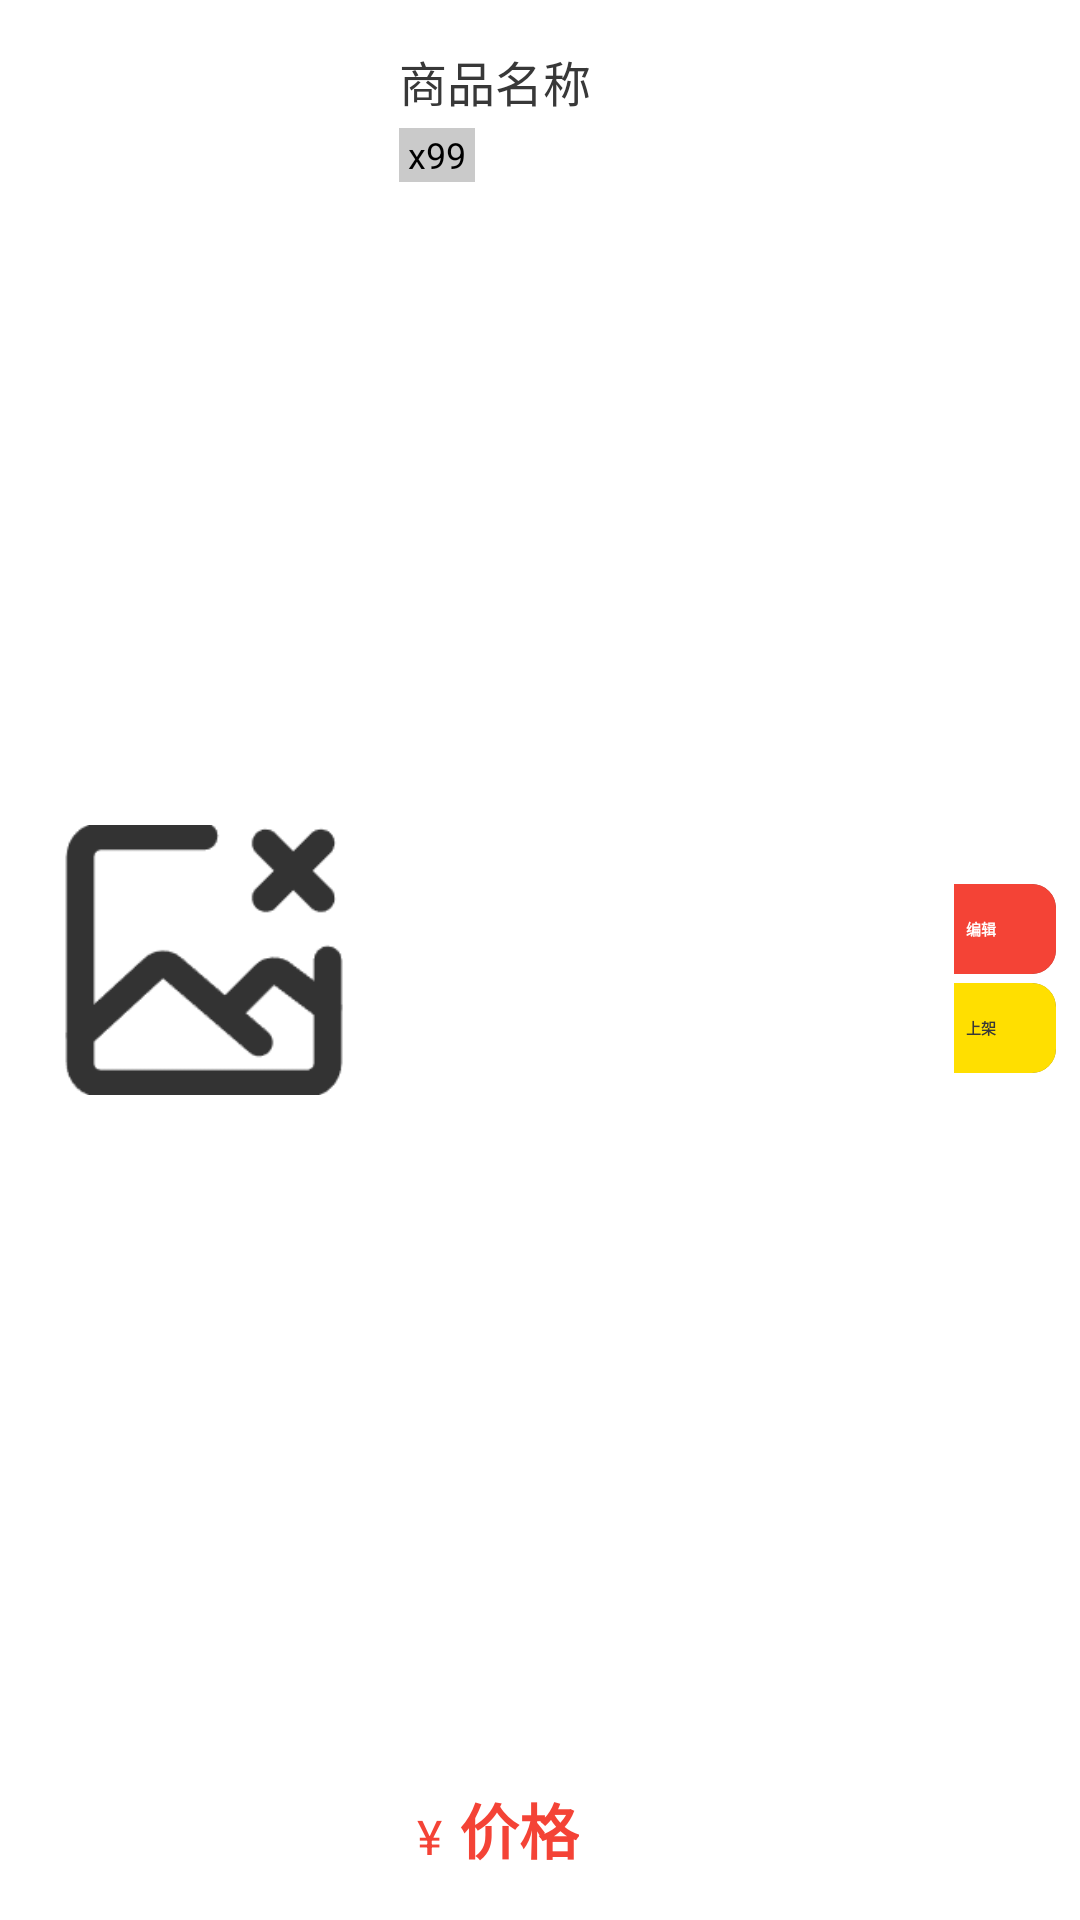

Where to tap for icons on this 1080 × 1920 app screen, as (x,y):
error picture: (204,960)
